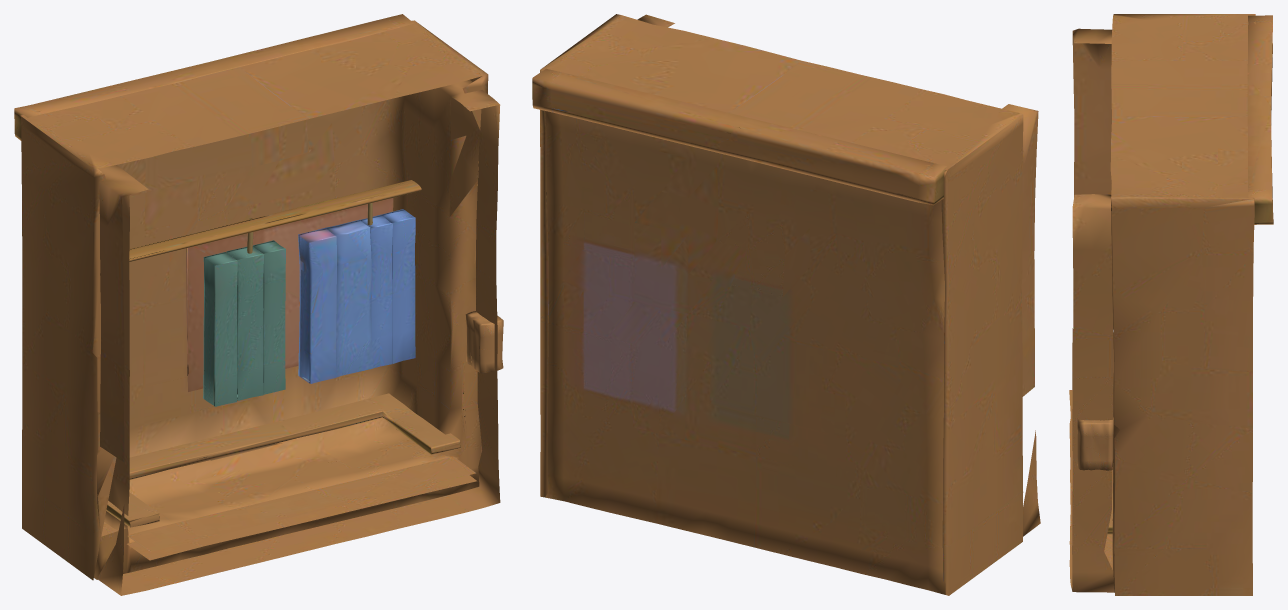
The model's file is wardrobe.open.glb.
The picture shows the model from 3 angles, left to right: view 1: azimuth 30°, elevation 25°; view 2: azimuth 150°, elevation 25°; view 3: azimuth 270°, elevation 25°; orthographic projection. The views are drawn at different scales.
Parts seen in each view (by area): view 1: geometry_0; view 2: geometry_0; view 3: geometry_0.
Part boxes in pixels (left/top/right/bottom): geometry_0: left=14, top=14, right=503, bottom=595; geometry_0: left=532, top=14, right=1040, bottom=595; geometry_0: left=1069, top=14, right=1273, bottom=595.
Bounding box in the file's own units: 1 × 1 × 0.467.
Materials: 1 (1 with a texture image).
